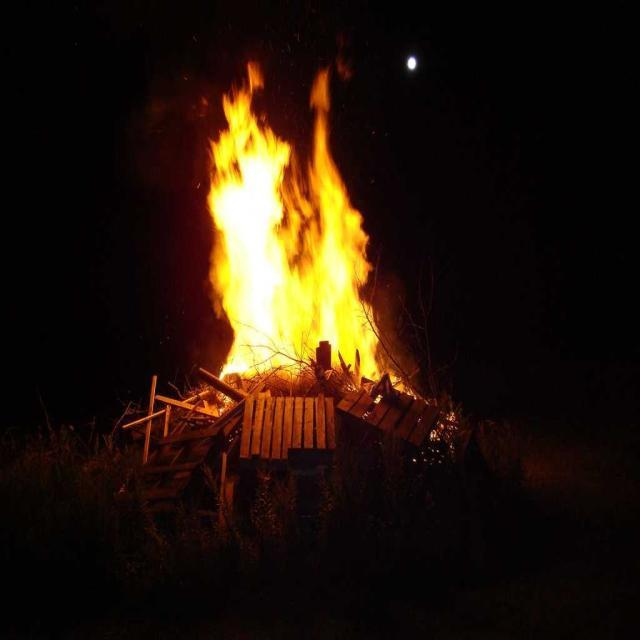Fire: (224, 154, 282, 353), (318, 210, 358, 332)
